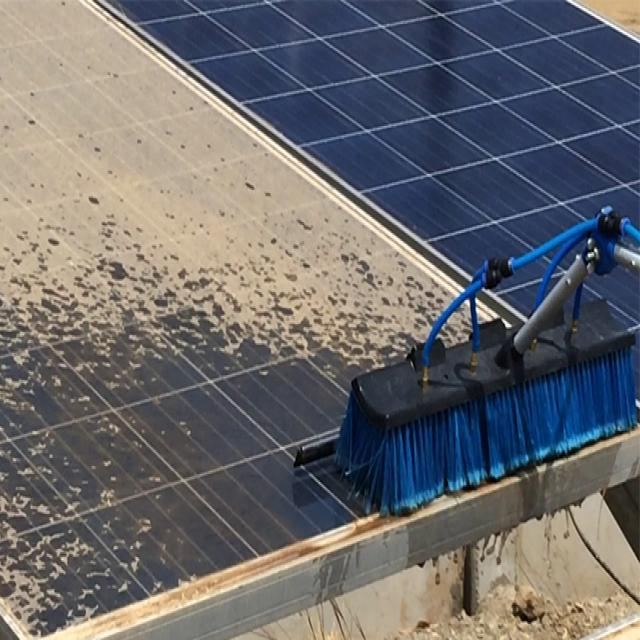dust-solar-panel: (0, 0, 485, 365)
